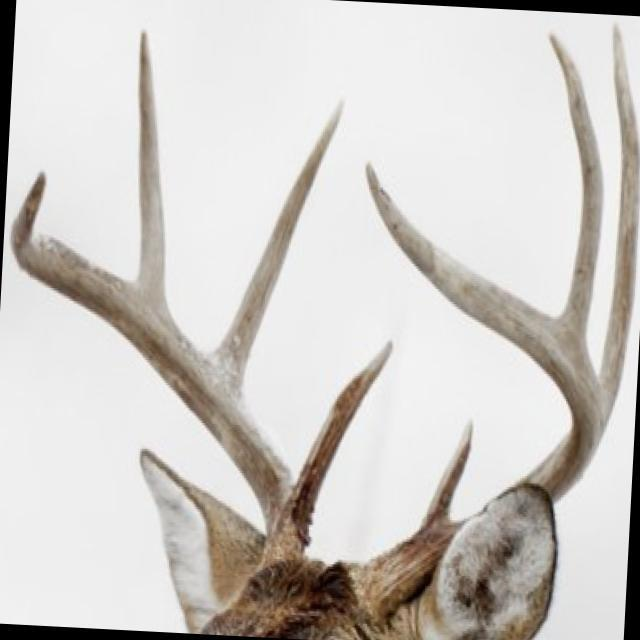L-G1: (419, 414, 476, 528)
L-G2: (599, 22, 640, 402)
L-G3: (547, 30, 604, 348)
R-F: (9, 168, 309, 561)
R-G1: (289, 337, 396, 533)
R-G2: (218, 95, 346, 383)
R-G3: (137, 29, 167, 304)
